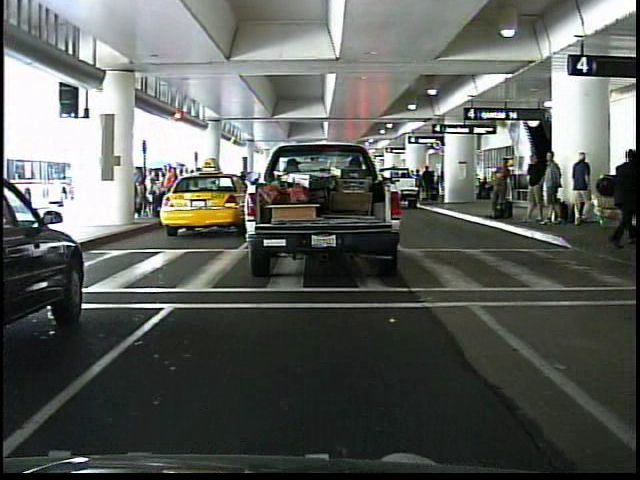person: (603, 146, 640, 249), (567, 149, 592, 228)
